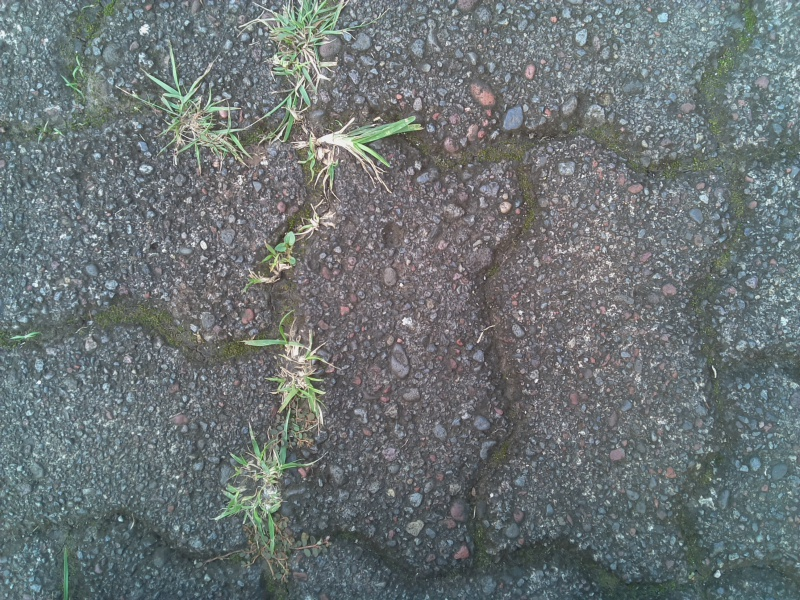Weed: (151, 63, 250, 168), (206, 432, 303, 539), (299, 113, 423, 195), (263, 4, 348, 111), (250, 325, 331, 419), (236, 233, 300, 287), (299, 201, 346, 240), (60, 52, 93, 100), (6, 322, 46, 356), (34, 115, 66, 143)
